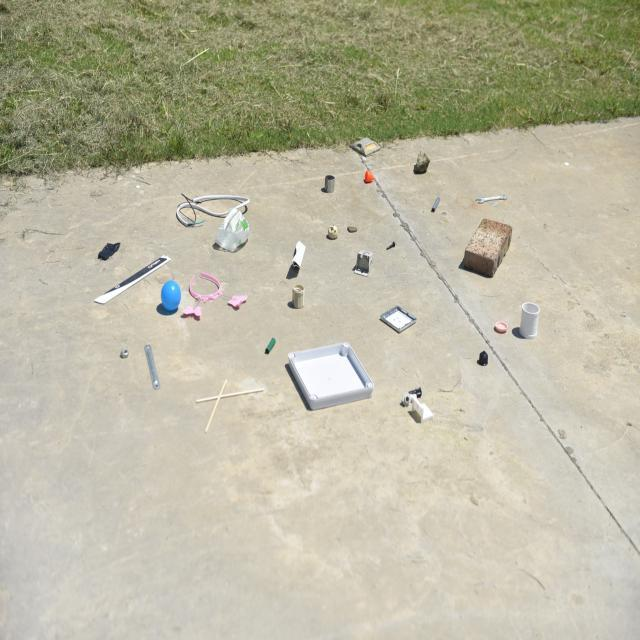Debris: (280, 346, 370, 417), (188, 366, 261, 443), (89, 241, 166, 310), (169, 182, 265, 225), (466, 219, 515, 288), (180, 265, 236, 320), (395, 382, 437, 423), (214, 213, 255, 255), (523, 295, 547, 349), (376, 303, 415, 334), (96, 228, 124, 267), (162, 270, 184, 316), (142, 338, 163, 378), (285, 233, 304, 273), (469, 192, 508, 208), (352, 135, 379, 158), (355, 243, 374, 275), (322, 169, 342, 197), (260, 329, 280, 357), (491, 312, 509, 342), (294, 286, 314, 313), (328, 220, 345, 250), (474, 345, 492, 369), (413, 152, 431, 174), (116, 343, 133, 362), (385, 235, 398, 258), (363, 168, 373, 189), (431, 186, 436, 215), (350, 216, 354, 239)
